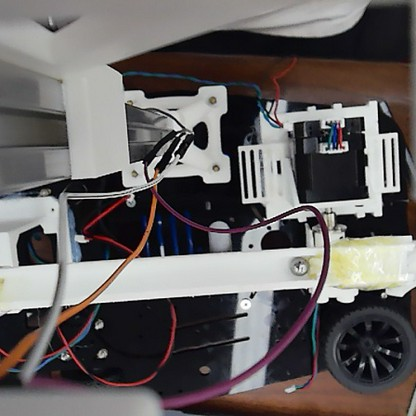ironball: (287, 254, 309, 276)
